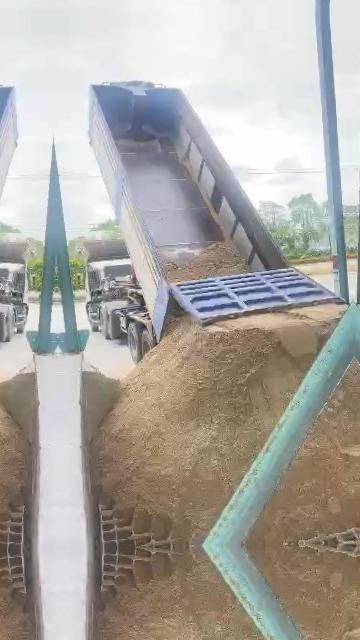sand: (93, 305, 344, 536), (249, 370, 358, 544), (164, 242, 247, 281), (81, 366, 120, 440)
